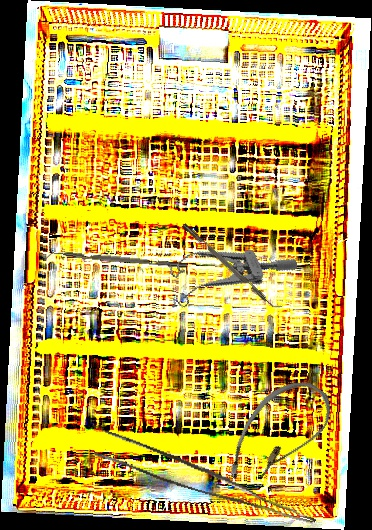Cannula: (216, 365, 341, 505)
Chopper: (181, 218, 284, 314), (43, 248, 188, 275)
Speculum: (155, 215, 299, 320)
Tissue Forceps: (91, 429, 324, 525)
